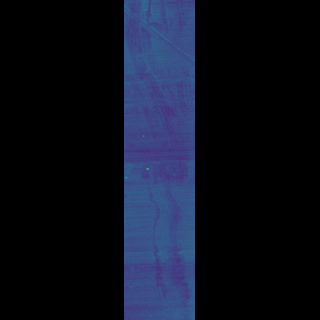Loch: (151, 0, 168, 145), (156, 158, 168, 302)
